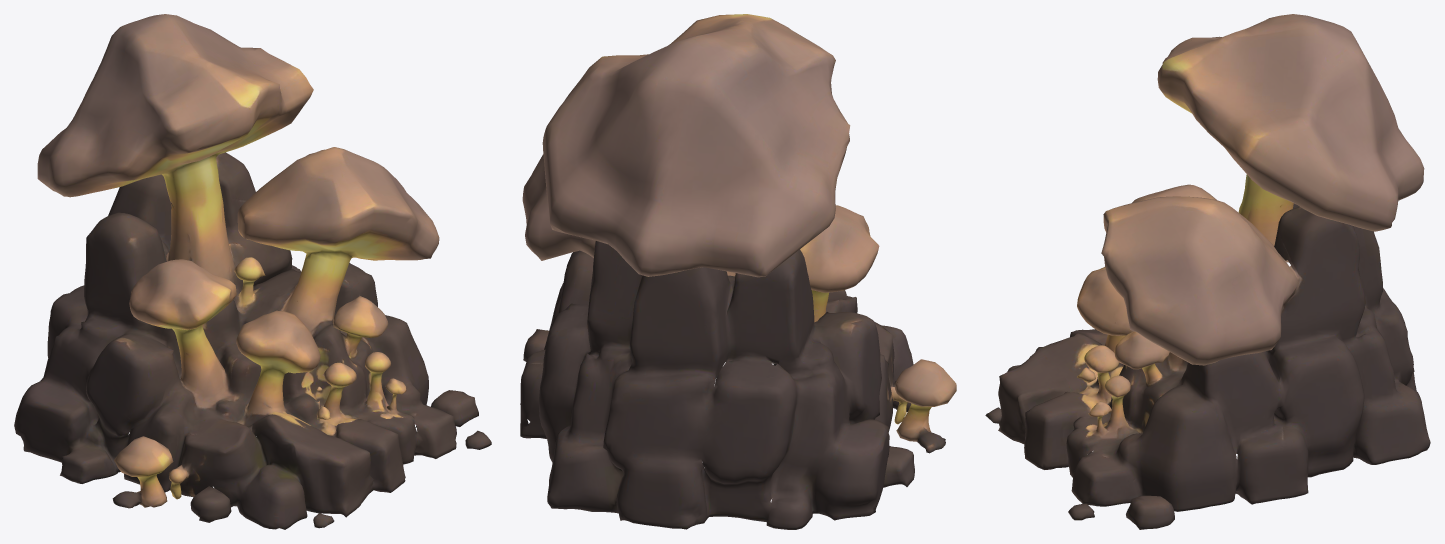
Rendered from mushroom_cluster.glb.
3 views of the same model, side by side, from view 1: azimuth 30°, elevation 25°; view 2: azimuth 150°, elevation 25°; view 3: azimuth 270°, elevation 25° (orthographic). The views are drawn at different scales.
Visible parts, largest first — view 1: tripo_node_9fe7c4e8; view 2: tripo_node_9fe7c4e8; view 3: tripo_node_9fe7c4e8.
Part boxes in pixels (left/top/right/bottom): tripo_node_9fe7c4e8: left=14, top=14, right=491, bottom=529; tripo_node_9fe7c4e8: left=520, top=14, right=956, bottom=529; tripo_node_9fe7c4e8: left=985, top=14, right=1430, bottom=529.
Bounding box in the file's own units: 98.59 × 96.44 × 98.71.
1 material, 1 textured.
